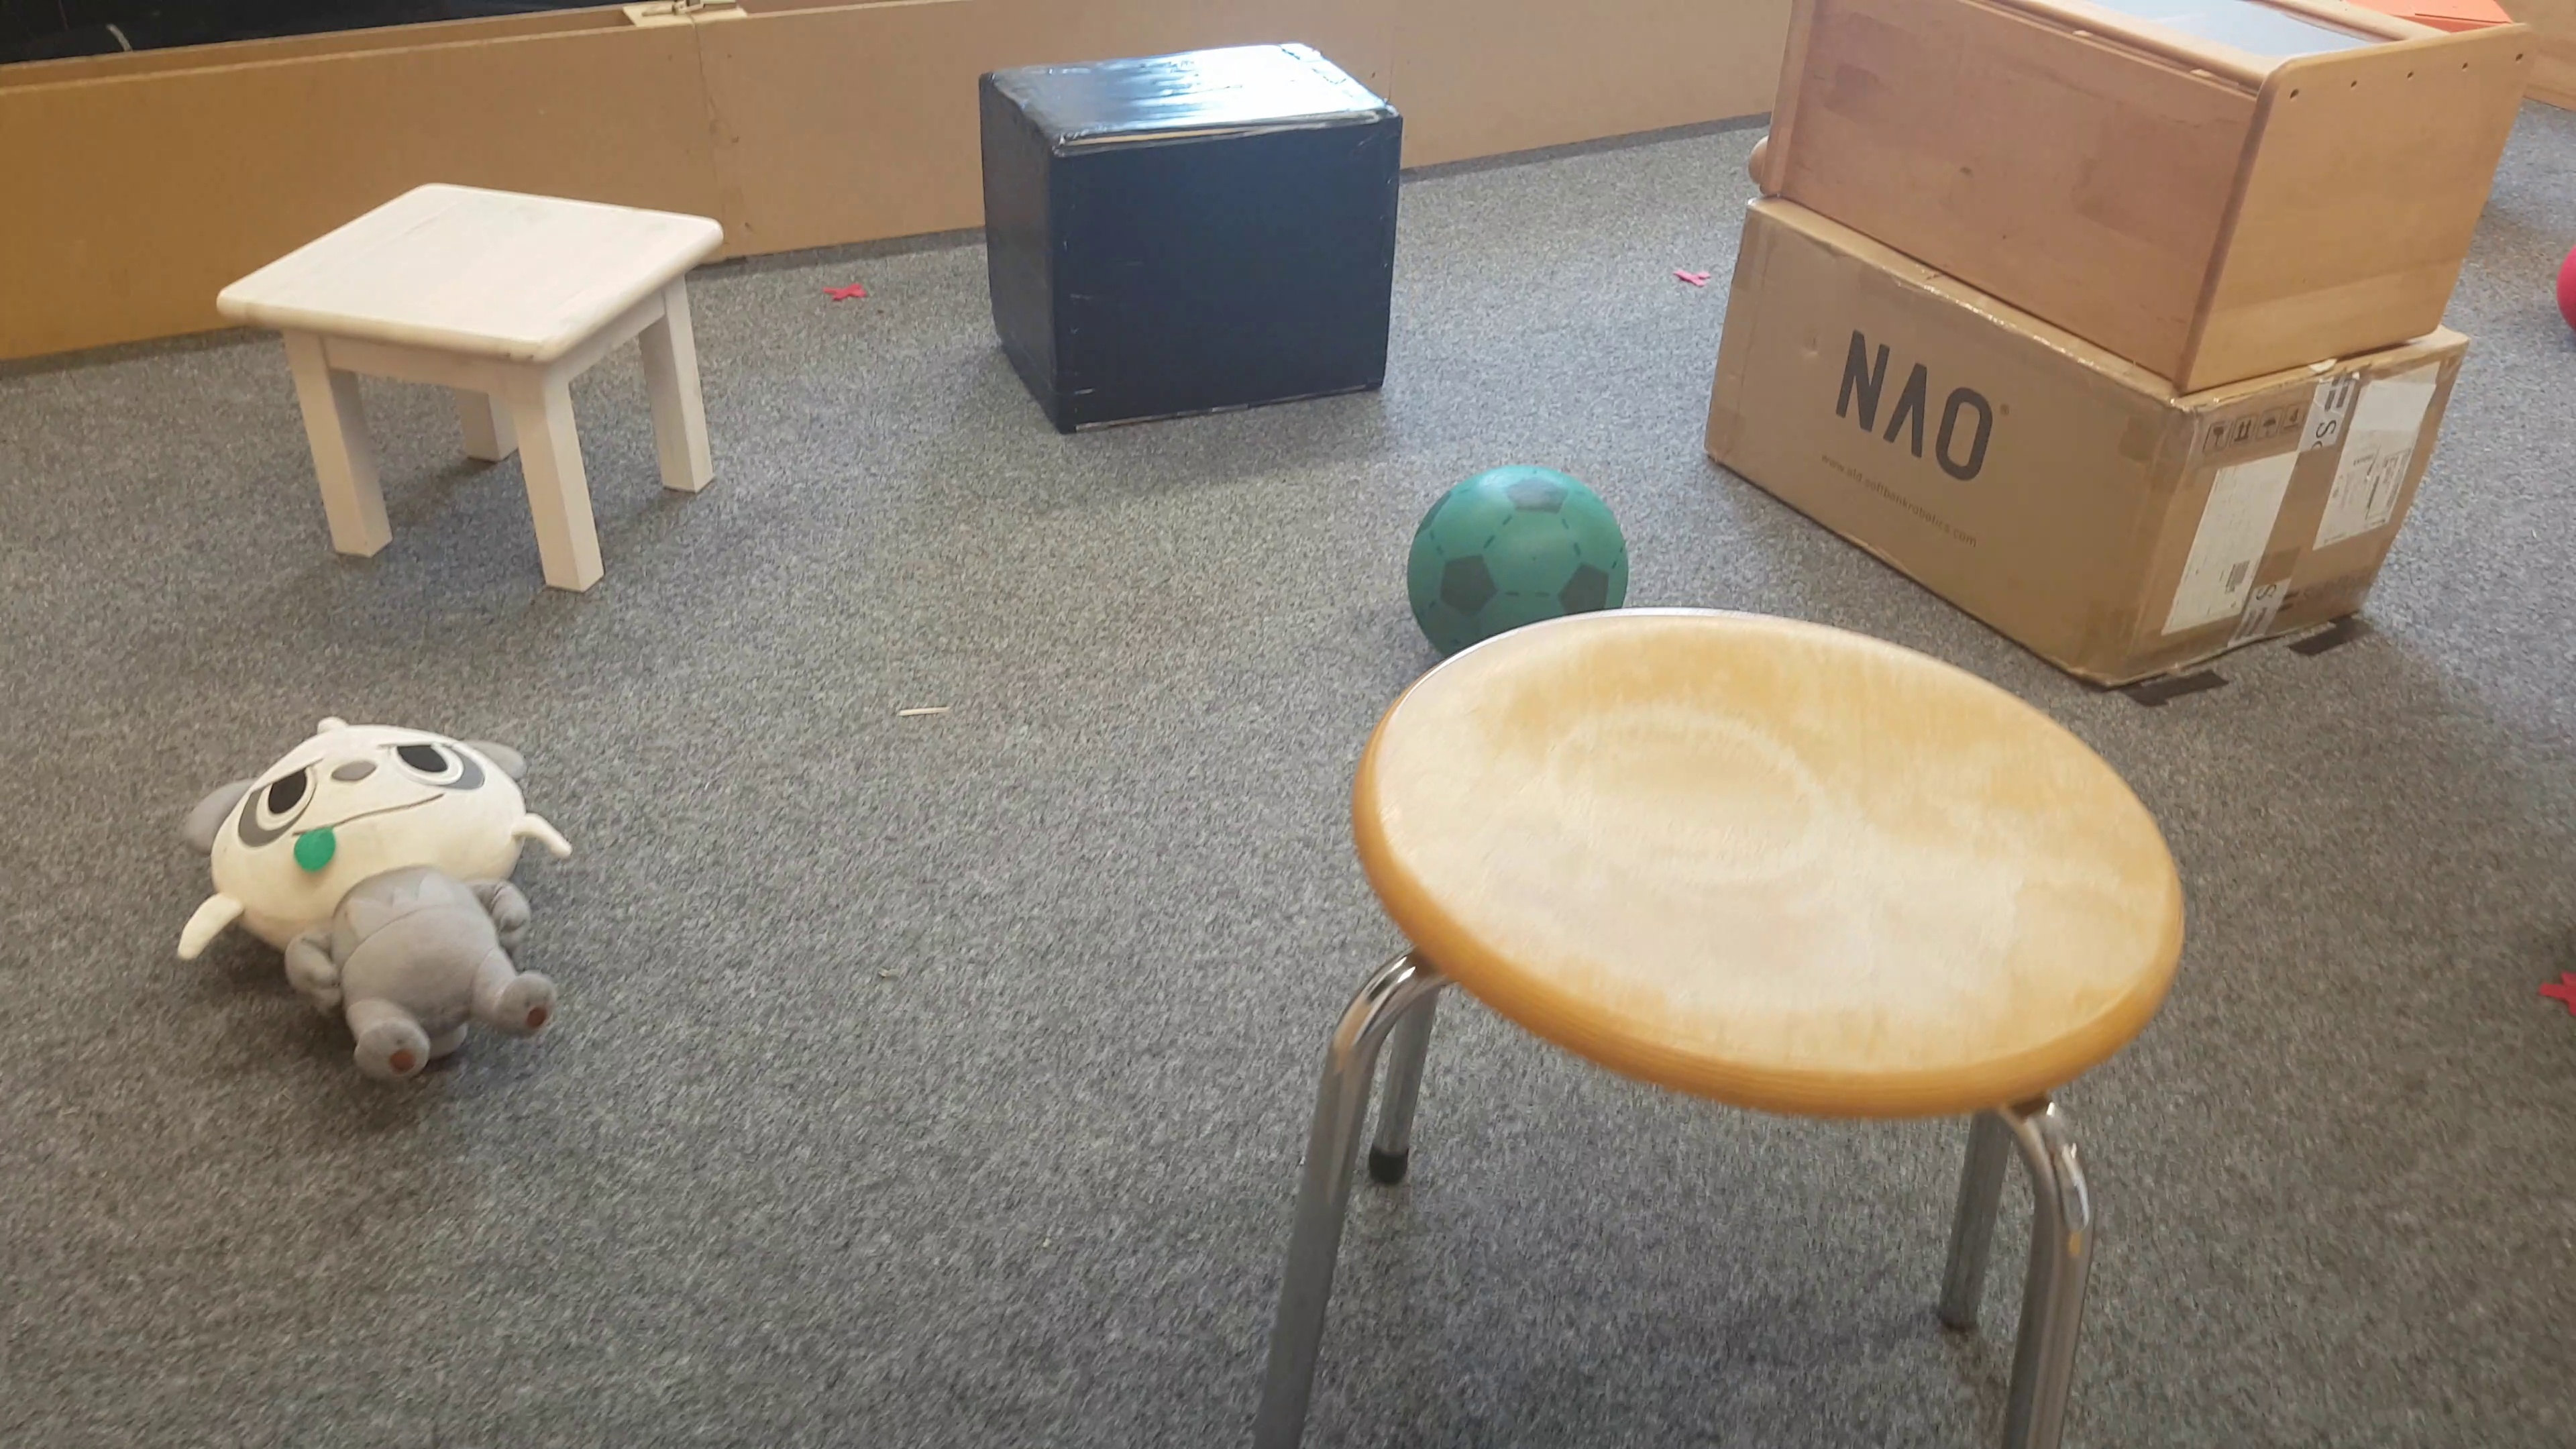grasp: (173, 713, 575, 1099)
kick: (1410, 467, 1626, 610)
push: (977, 42, 1414, 446)
